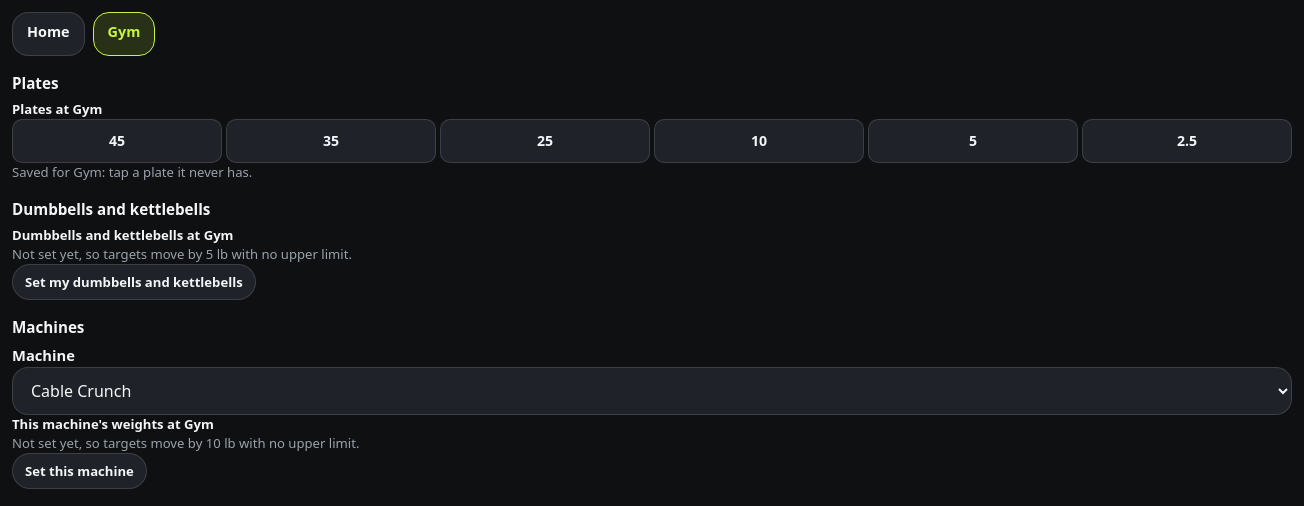
it: the weights at each place, in Settings › at Home shows its dumbbells only: a reverse curl or a face pull done there puts no bar or stack in
Click the radio button labelled "Home" at (48, 34), box [12,12,85,56]
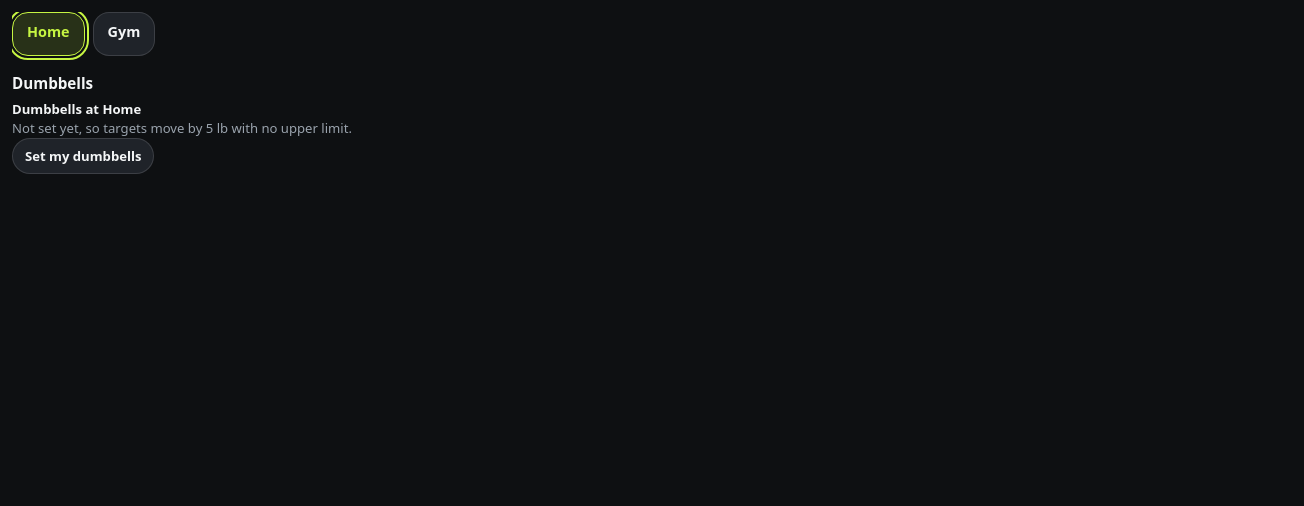
Expected: the element with test id "place-weights-plates" is gone
Expected: the element with test id "place-weights-machines" is gone
Expected: the element with test id "loading-editor" shows "Dumbbells at Home", [12,100,141,118]
